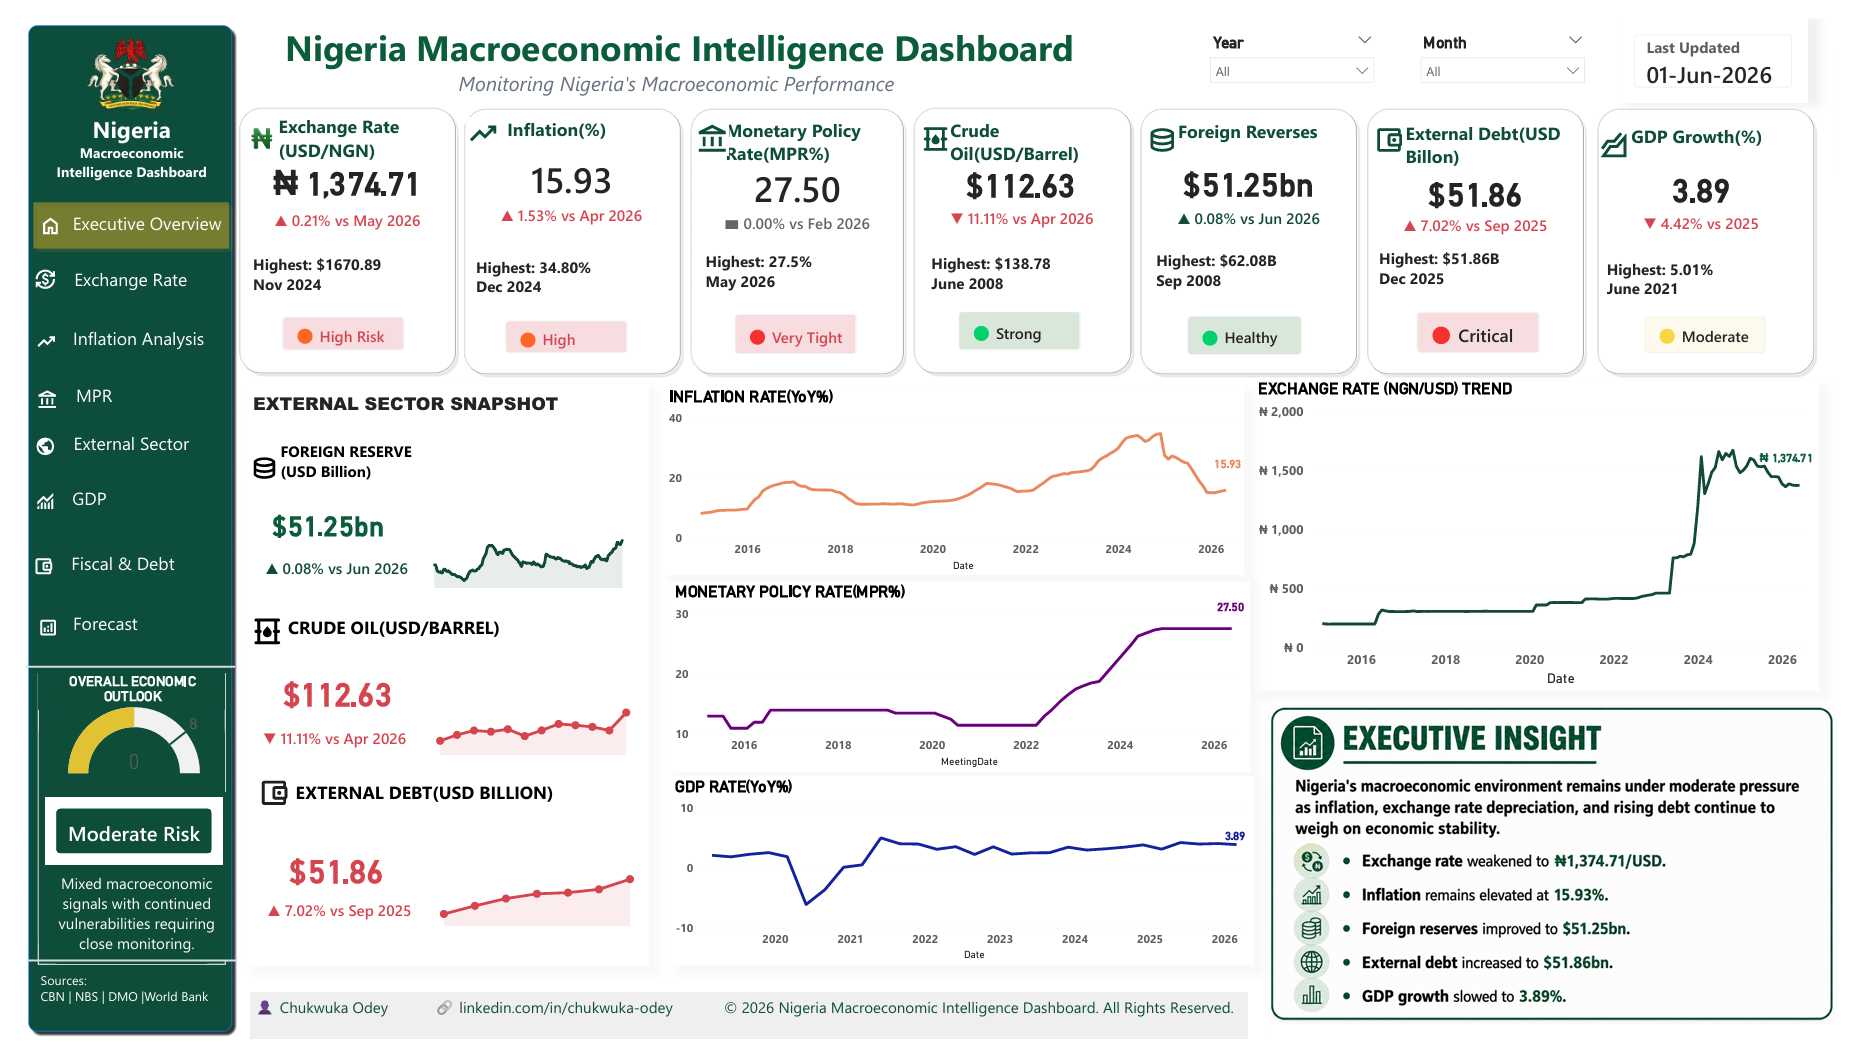

Layout of this report page (visuals, bound fields, positions):
{"tool":"powerbi","page":{"name":"Executive Overview","canvas":[1920,1080],"ordinal":0},"visuals":[{"type":"shape","title":"Sidebar Background","box":[0,0,229.8,1080.4],"z":0},{"type":"shape","box":[225.4,88.9,240,292],"z":0,"group":"g9"},{"type":"shape","box":[939.1,88.9,240.8,292],"z":0,"group":"g11"},{"type":"shape","box":[463.3,89.6,240,292.2],"z":0,"group":"g10"},{"type":"shape","box":[703.3,89.6,236.4,292],"z":0,"group":"g20"},{"type":"shape","box":[1179.1,89.6,240,292],"z":0,"group":"g14"},{"type":"shape","box":[1418.9,89.9,240,292],"z":0,"group":"g12"},{"type":"shape","box":[1663.3,90.1,240.5,292],"z":0,"group":"g13"},{"type":"actionButton","box":[6.1,187.8,220,62.3],"z":0,"group":"g8"},{"type":"image","box":[14.4,265.6,22,22],"z":0,"group":"g7"},{"type":"image","box":[14.9,327.3,21.9,29.7],"z":0,"group":"g6"},{"type":"textbox","title":"Executive Overview","box":[16,381.9,205.1,50.6],"z":0,"group":"g4"},{"type":"lineChart","title":"EXCHANGE RATE (NGN/USD) TREND","fields":{"Y":["Measures (2).Latest Exchange Rate"],"Category":["Exchange_Rate.Date"]},"box":[1304.3,381.9,599,329.7],"z":0,"group":"g15"},{"type":"textbox","box":[240,388.2,423.7,615.7],"z":0,"group":"g16"},{"type":"lineChart","title":"INFLATION RATE(YoY%)","fields":{"Y":["Measures (2).Latest Inflation"],"Category":["Verified Inflation.Date"]},"box":[680.3,390.3,613.6,200],"z":0,"group":"g17"},{"type":"textbox","title":"Executive Overview","box":[0.9,432,207.1,50.6],"z":0,"group":"g3"},{"type":"textbox","title":"Executive Overview","box":[0.9,490.5,211.2,56.8],"z":0,"group":"g5"},{"type":"textbox","title":"Executive Overview","box":[0.4,559.5,207.1,50.6],"z":0,"group":"g1"},{"type":"lineChart","title":"MONETARY POLICY RATE(MPR%)","fields":{"Y":["Measures (2).Latest MPR"],"Category":["MPR.MeetingDate"]},"box":[686.6,596.9,613,201.1],"z":0,"group":"g18"},{"type":"image","box":[17.5,629.8,21.7,29.7],"z":0,"group":"g2"},{"type":"shape","title":"OVERALL ECONOMIC OUTLOOK","box":[16.7,692.9,199.5,308.9],"z":0,"group":"g21"},{"type":"shape","box":[1319,717.9,601,363.1],"z":0,"group":"g22"},{"type":"lineChart","title":"GDP RATE(YoY%)","fields":{"Y":["Measures (2).Latest GDP Growth"],"Category":["GDP Growth.Date"]},"box":[686.6,803.5,617.7,200],"z":0,"group":"g19"},{"type":"group","id":"g1","title":"Nav Fiscal & Debt Analysis","box":[0.4,549.1,220,62],"z":500},{"type":"textbox","title":"Executive Overview","box":[19.6,198.5,206.3,51.9],"z":1000,"group":"g8"},{"type":"textbox","title":"Exchange","box":[14.4,258.1,206.2,37.5],"z":1000,"group":"g7"},{"type":"cardVisual","fields":{"Data":["Measures (2).Crude Oil Status"]},"box":[975.3,293.3,162.8,74.4],"z":1000,"group":"g11"},{"type":"cardVisual","fields":{"Data":["Measures (2).External Debt Status"]},"box":[1460.3,293.5,163.7,77.3],"z":1000,"group":"g12"},{"type":"cardVisual","fields":{"Data":["Measures (2).GDP Growth Status"]},"box":[1700.9,295.2,162.8,75.7],"z":1000,"group":"g13"},{"type":"cardVisual","fields":{"Data":["Measures (2).MPR Status"]},"box":[738.1,295.9,162.8,75.8],"z":1000,"group":"g20"},{"type":"cardVisual","fields":{"Data":["Measures (2).Foreign Reserve Status"]},"box":[1217.1,298,155.5,74.4],"z":1000,"group":"g14"},{"type":"cardVisual","fields":{"Data":["Measures (2).Exchange Rate Status"]},"box":[259.3,298.6,162.8,69.8],"z":1000,"group":"g9"},{"type":"cardVisual","fields":{"Data":["Measures (2).Headline Inflation Status"]},"box":[495,302.3,163.4,68],"z":1000,"group":"g10"},{"type":"textbox","title":"Executive Overview","box":[14.9,321.8,205.1,50.6],"z":1000,"group":"g6"},{"type":"image","box":[16,389.5,21.9,29.7],"z":1000,"group":"g4"},{"type":"image","box":[13.8,437.5,21.8,29.3],"z":1000,"group":"g3"},{"type":"card","title":"Card 1","fields":{"Values":["Measures (2).Latest Exchange Rate"]},"box":[1834.8,445.8,67.5,42.1],"z":1000,"group":"g15"},{"type":"card","title":"Card 1","fields":{"Values":["Measures (2).Latest Inflation"]},"box":[1243.8,454.4,66.8,38.8],"z":1000,"group":"g17"},{"type":"shape","box":[252,481.9,399.2,170.6],"z":1000,"group":"g16"},{"type":"actionButton","box":[10.9,489.3,209,59.4],"z":1000,"group":"g5"},{"type":"image","box":[12.5,565.1,21.8,29.3],"z":1000,"group":"g1"},{"type":"card","title":"Card 1","fields":{"Values":["Measures (2).Latest MPR"]},"box":[1243.8,604.7,71,39.2],"z":1000,"group":"g18"},{"type":"group","id":"g2","title":"Nav Forecasting & Outlook","box":[3.1,614.3,220,62],"z":1000},{"type":"textbox","title":"Executive Overview","box":[3.1,622.2,214.6,51],"z":1000,"group":"g2"},{"type":"image","box":[1319,713.7,601,363.1],"z":1000,"group":"g22"},{"type":"card","title":"Card 1","fields":{"Values":["Measures (2).Latest GDP Growth"]},"box":[1250.1,848.2,68.9,38.8],"z":1000,"group":"g19"},{"type":"textbox","box":[23.6,899.8,196.2,98.1],"z":1000,"group":"g21"},{"type":"card","title":"Card 2","fields":{"Values":["Measures (2).Inflation Change Display"]},"box":[480,193.9,204.5,31.3],"z":2000,"group":"g10"},{"type":"card","title":"Card 2","fields":{"Values":["Measures (2).Crude Oil Change Display"]},"box":[957.9,195.3,202.4,35.5],"z":2000,"group":"g11"},{"type":"card","title":"Card 2","fields":{"Values":["Measures (2).Foreign Reserve Change Display"]},"box":[1197.9,196,202.4,35.5],"z":2000,"group":"g14"},{"type":"card","title":"Card 2","fields":{"Values":["Measures (2).Exchange Rate Change Display"]},"box":[244.2,197.4,202.4,35.5],"z":2000,"group":"g9"},{"type":"card","title":"Card 2","fields":{"Values":["Measures (2).MPR Change Display"]},"box":[722.1,200.2,198.3,35.5],"z":2000,"group":"g20"},{"type":"card","title":"Card 2","fields":{"Values":["Measures (2).GDP Growth Change Display"]},"box":[1677.9,200.7,200.3,35.5],"z":2000,"group":"g13"},{"type":"card","title":"Card 2","fields":{"Values":["Measures (2).External Debt Change Display"]},"box":[1437.7,202.6,202.4,35.5],"z":2000,"group":"g12"},{"type":"image","box":[19.6,204,22.5,31.1],"z":2000,"group":"g8"},{"type":"actionButton","box":[1.3,250.4,220,62],"z":2000,"group":"g7"},{"type":"actionButton","box":[1.1,311.4,218.8,60.8],"z":2000,"group":"g6"},{"type":"actionButton","box":[4.9,371.5,218.8,60.8],"z":2000,"group":"g4"},{"type":"actionButton","box":[1,421.6,220.9,60.8],"z":2000,"group":"g3"},{"type":"textbox","box":[268.6,441.9,189.9,72.4],"z":2000,"group":"g16"},{"type":"image","box":[13.4,497.6,23,27.1],"z":2000,"group":"g5"},{"type":"actionButton","box":[0.5,549.1,220.9,60.8],"z":2000,"group":"g1"},{"type":"actionButton","box":[6,614.3,216.7,60.8],"z":2000,"group":"g2"},{"type":"cardVisual","fields":{"Data":["Measures (2).Economic Outlook Status"]},"box":[19.4,819.7,198.3,81.5],"z":2000,"group":"g21"},{"type":"group","id":"g3","title":"Nav External Sector","box":[0.9,421.6,220,62],"z":2500},{"type":"group","id":"g4","title":"Nav Monetary Policy (MPR)","box":[4.9,371.5,220,62],"z":2750},{"type":"card","title":"Card 1","fields":{"Values":["Measures (2).Latest Inflation"]},"box":[477.9,143.9,208.7,52.2],"z":3000,"group":"g10"},{"type":"card","title":"Card 1","fields":{"Values":["Measures (2).Latest Foreign Reserve"]},"box":[1195.8,143.9,206.6,58.4],"z":3000,"group":"g14"},{"type":"card","title":"Card 1","fields":{"Values":["Measures (2).Latest Exchange Rate"]},"box":[240.6,145.4,208.7,52.2],"z":3000,"group":"g9"},{"type":"card","title":"Card 1","fields":{"Values":["Measures (2).Latest Crude Oil Price"]},"box":[954.8,149.6,206.6,48],"z":3000,"group":"g11"},{"type":"card","title":"Card 1","fields":{"Values":["Measures (2).Latest MPR"]},"box":[720,150.1,202.4,58.4],"z":3000,"group":"g20"},{"type":"card","title":"Card 1","fields":{"Values":["Measures (2).Latest GDP Growth"]},"box":[1675.8,150.6,204.5,58.4],"z":3000,"group":"g13"},{"type":"card","title":"Card 1","fields":{"Values":["Measures (2).Latest External Debt"]},"box":[1435.6,156.3,206.6,54.3],"z":3000,"group":"g12"},{"type":"group","id":"g5","title":"Nav Economic Growth","box":[0.9,489.3,219,59.4],"z":3000},{"type":"shape","box":[252,657.5,399.2,170.6],"z":3000,"group":"g16"},{"type":"gauge","fields":{"Y":["Measures (2).Economic Outlook Score"]},"box":[29,718.8,179.3,85],"z":3000,"group":"g21"},{"type":"textbox","box":[509.3,98.3,154.4,50.1],"z":4000,"group":"g10"},{"type":"textbox","box":[740.8,99.4,181,61.5],"z":4000,"group":"g20"},{"type":"textbox","box":[977.8,99.5,160.7,60.5],"z":4000,"group":"g11"},{"type":"textbox","box":[1219.5,100.2,160.7,45.9],"z":4000,"group":"g14"},{"type":"textbox","box":[1699,107,158.6,45.9],"z":4000,"group":"g13"},{"type":"textbox","box":[1432.1,237.7,206.6,68.9],"z":4000,"group":"g12"},{"type":"textbox","box":[240.6,243.5,206.6,60.5],"z":4000,"group":"g9"},{"type":"image","box":[241.9,452.2,29.7,46.8],"z":4000,"group":"g16"},{"type":"textbox","box":[267.7,95.4,158.6,61.4],"z":5000,"group":"g9"},{"type":"textbox","box":[1459.4,102.7,180.4,70.3],"z":5000,"group":"g12"},{"type":"image","box":[714.7,109.3,33.3,36.1],"z":5000,"group":"g20"},{"type":"image","box":[1669.4,116,33.8,36.1],"z":5000,"group":"g13"},{"type":"textbox","box":[1195.7,240,204.5,66.8],"z":5000,"group":"g14"},{"type":"textbox","box":[957.9,243.3,189.9,66.8],"z":5000,"group":"g11"},{"type":"textbox","box":[475.9,246.5,204.5,66.8],"z":5000,"group":"g10"},{"type":"shape","box":[251.4,833.5,399.5,169.8],"z":5000,"group":"g16"},{"type":"image","box":[471.6,104.2,33.4,33.4],"z":6000,"group":"g10"},{"type":"image","box":[237,108.6,33.8,36.1],"z":6000,"group":"g9"},{"type":"image","box":[950.7,108.6,33.9,36.1],"z":6000,"group":"g11"},{"type":"image","box":[1190.7,109.3,33.8,36.1],"z":6000,"group":"g14"},{"type":"image","box":[1430.5,109.6,33.8,36.1],"z":6000,"group":"g12"},{"type":"textbox","box":[719,240.2,189.9,66.8],"z":6000,"group":"g20"},{"type":"textbox","box":[1673.7,248.7,204.5,66.8],"z":6000,"group":"g13"},{"type":"group","id":"g6","title":"Nav Inflation Analysis","box":[1.1,311.4,220,62],"z":6000},{"type":"lineChart","title":"EXCHANGE RATE (NGN/USD) TREND","fields":{"Y":["Measures (2).Latest Foreign Reserve"],"Category":["Date.Date.Variation.Date Hierarchy.Year","Date.Date.Variation.Date Hierarchy.Quarter","Date.Date.Variation.Date Hierarchy.Month","Date.Date.Variation.Date Hierarchy.Day"]},"box":[421.6,525.4,229.6,82],"z":6000,"group":"g16"},{"type":"group","id":"g7","title":"Nav - Exchange","box":[1.3,250.4,220,62],"z":7000},{"type":"card","title":"Card 1","fields":{"Values":["Measures (2).Latest Foreign Reserve"]},"box":[257.7,503.8,133.8,63.4],"z":7000,"group":"g16"},{"type":"group","id":"g8","title":"Nav - Executive Overview","box":[6.1,187.8,220,62.6],"z":8000},{"type":"textbox","box":[276.9,627.7,237.9,63.5],"z":8000,"group":"g16"},{"type":"textbox","title":"Title bar","box":[229.6,0,932.9,93.9],"z":9000},{"type":"card","title":"Card 2","fields":{"Values":["Measures (2).Foreign Reserve Change Display"]},"box":[249.8,560.1,167,49.6],"z":9000,"group":"g16"},{"type":"image","title":"Coat of Arm","box":[6,10.7,219,122.6],"z":10000},{"type":"lineChart","title":"EXCHANGE RATE (NGN/USD) TREND","fields":{"Category":["Date.Date.Variation.Date Hierarchy.Year","Date.Date.Variation.Date Hierarchy.Quarter","Date.Date.Variation.Date Hierarchy.Month","Date.Date.Variation.Date Hierarchy.Day"],"Y":["Measures (2).Latest Crude Oil Price"]},"box":[427.8,706.5,227.5,80.1],"z":10000,"group":"g16"},{"type":"textbox","box":[14.9,94.6,202.7,93.2],"z":11000},{"type":"card","title":"Card 1","fields":{"Values":["Measures (2).Latest Crude Oil Price"]},"box":[267.1,683.6,133.6,61],"z":11000,"group":"g16"},{"type":"shape","title":"Line 1","box":[5.4,680.4,220.8,12.7],"z":12000},{"type":"textbox","box":[285.3,801.6,338.1,60.7],"z":12000,"group":"g16"},{"type":"group","id":"g9","title":"Exchange Rate KPI","box":[225.4,88.9,240,292],"z":13000},{"type":"card","title":"Card 2","fields":{"Values":["Measures (2).Crude Oil Change Display"]},"box":[250.4,744.6,162.8,40],"z":13000,"group":"g16"},{"type":"group","id":"g10","title":"Inflation KPI","box":[463.3,89.6,240,292.2],"z":14000},{"type":"card","title":"Card 1","fields":{"Values":["Measures (2).Latest External Debt"]},"box":[267.1,870.4,131.5,61],"z":14000,"group":"g16"},{"type":"group","id":"g11","title":"Crude KPI","box":[939.1,88.9,240.8,292],"z":15000},{"type":"card","title":"Card 2","fields":{"Values":["Measures (2).External Debt Change Display"]},"box":[254,927.1,164.9,38.1],"z":15000,"group":"g16"},{"type":"group","id":"g12","title":"External Dept KPI","box":[1418.9,89.9,240,292.2],"z":16000},{"type":"lineChart","title":"EXCHANGE RATE (NGN/USD) TREND","fields":{"Category":["Date.Date.Variation.Date Hierarchy.Year","Date.Date.Variation.Date Hierarchy.Quarter","Date.Date.Variation.Date Hierarchy.Month","Date.Date.Variation.Date Hierarchy.Day"],"Y":["Measures (2).Latest External Debt"]},"box":[432,885.7,227.5,80.1],"z":16000,"group":"g16"},{"type":"group","id":"g13","title":"GDP KPI","box":[1663.3,90.1,240,292.2],"z":17000},{"type":"image","box":[241.9,630.5,36.5,36.5],"z":17000,"group":"g16"},{"type":"group","id":"g14","title":"Crude KPI","box":[1179.1,89.6,240,292.2],"z":18000},{"type":"image","box":[249.6,801.7,34.6,36.5],"z":18000,"group":"g16"},{"type":"group","id":"g15","title":"Group 1","box":[1304.3,381.9,599,329.7],"z":19000},{"type":"group","id":"g16","title":"Group 2","box":[240,388.2,423.7,615.7],"z":20000},{"type":"group","id":"g17","title":"Group 3","box":[680.3,390.3,630.3,200],"z":21000},{"type":"group","id":"g18","title":"Group 4","box":[686.6,596.9,628.2,200.3],"z":22000},{"type":"group","id":"g19","title":"Group 5","box":[686.6,803.5,632.3,200.3],"z":23000},{"type":"group","id":"g20","title":"Inflation KPI","box":[703.3,89.6,236.4,292],"z":24000},{"type":"cardVisual","title":"Last Updated","fields":{"Data":["Measures (2).Last Updated"]},"box":[1690.4,0,200.3,89.7],"z":25000},{"type":"slicer","fields":{"Values":["Date.Year"]},"box":[1248,10.4,194.1,75.1],"z":26000},{"type":"slicer","fields":{"Values":["Date.Month"]},"box":[1471.3,10.4,194.1,75.1],"z":27000},{"type":"group","id":"g21","title":"Group 6","box":[16.7,692.9,203.1,308.9],"z":28000},{"type":"shape","title":"Line 1","box":[6.3,991.3,221.2,12.5],"z":29000},{"type":"textbox","box":[14.6,1003.8,204.5,52.2],"z":30000},{"type":"textbox","box":[242.1,1031,1056,50.1],"z":31000},{"type":"group","id":"g22","title":"Group 7","box":[1319,713.7,601,367.3],"z":32000}]}

Visuals, with their boxes in screenshot pixels (x1, y1, x2, y2), scaled from the page's 1920x1080 canvas onto the 1858x1059 screenshot:
"Sidebar Background" shape: 0:0:222:1058
shape: 218:87:450:373
shape: 909:87:1142:373
shape: 448:88:681:374
shape: 681:88:909:374
shape: 1141:88:1373:374
shape: 1373:88:1605:374
shape: 1610:88:1842:375
actionButton: 6:184:219:245
image: 14:260:35:282
image: 14:321:36:350
"Executive Overview" textbox: 15:374:214:424
"EXCHANGE RATE (NGN/USD) TREND" lineChart: 1262:374:1842:698
textbox: 232:381:642:984
"INFLATION RATE(YoY%)" lineChart: 658:383:1252:579
"Executive Overview" textbox: 1:424:201:473
"Executive Overview" textbox: 1:481:205:537
"Executive Overview" textbox: 0:549:201:598
"MONETARY POLICY RATE(MPR%)" lineChart: 664:585:1258:782
image: 17:618:38:647
"OVERALL ECONOMIC OUTLOOK" shape: 16:679:209:982
shape: 1276:704:1857:1058
"GDP RATE(YoY%)" lineChart: 664:788:1262:984
"Nav Fiscal & Debt Analysis" group: 0:538:213:599
"Executive Overview" textbox: 19:195:219:246
"Exchange" textbox: 14:253:213:290
cardVisual - Measures (2).Crude Oil Status: 944:288:1101:361
cardVisual - Measures (2).External Debt Status: 1413:288:1572:364
cardVisual - Measures (2).GDP Growth Status: 1646:289:1804:364
cardVisual - Measures (2).MPR Status: 714:290:872:364
cardVisual - Measures (2).Foreign Reserve Status: 1178:292:1328:365
cardVisual - Measures (2).Exchange Rate Status: 251:293:408:361
cardVisual - Measures (2).Headline Inflation Status: 479:296:637:363
"Executive Overview" textbox: 14:316:213:365
image: 15:382:37:411
image: 13:429:34:458
"Card 1" card: 1776:437:1841:478
"Card 1" card: 1204:446:1268:484
shape: 244:473:630:640
actionButton: 11:480:213:538
image: 12:554:33:583
"Card 1" card: 1204:593:1272:631
"Nav Forecasting & Outlook" group: 3:602:216:663
"Executive Overview" textbox: 3:610:211:660
image: 1276:700:1857:1056
"Card 1" card: 1210:832:1276:870
textbox: 23:882:213:978
"Card 2" card: 464:190:662:221
"Card 2" card: 927:192:1123:226
"Card 2" card: 1159:192:1355:227
"Card 2" card: 236:194:432:228
"Card 2" card: 699:196:891:231
"Card 2" card: 1624:197:1818:232
"Card 2" card: 1391:199:1587:233
image: 19:200:41:231
actionButton: 1:246:214:306
actionButton: 1:305:213:365
actionButton: 5:364:216:424
actionButton: 1:413:215:473
textbox: 260:433:444:504
image: 13:488:35:514
actionButton: 0:538:214:598
actionButton: 6:602:216:662
cardVisual - Measures (2).Economic Outlook Status: 19:804:211:884
"Nav External Sector" group: 1:413:214:474
"Nav Monetary Policy (MPR)" group: 5:364:218:425
"Card 1" card: 462:141:664:192
"Card 1" card: 1157:141:1357:198
"Card 1" card: 233:143:435:194
"Card 1" card: 924:147:1124:194
"Card 1" card: 697:147:893:204
"Card 1" card: 1622:148:1820:205
"Card 1" card: 1389:153:1589:207
"Nav Economic Growth" group: 1:480:213:538
shape: 244:645:630:812
gauge - Measures (2).Economic Outlook Score: 28:705:202:788
textbox: 493:96:642:146
textbox: 717:97:892:158
textbox: 946:98:1102:157
textbox: 1180:98:1336:143
textbox: 1644:105:1798:150
textbox: 1386:233:1586:301
textbox: 233:239:433:298
image: 234:443:263:489
textbox: 259:94:413:154
textbox: 1412:101:1587:170
image: 692:107:724:143
image: 1615:114:1648:149
textbox: 1157:235:1355:301
textbox: 927:239:1111:304
textbox: 461:242:658:307
shape: 243:817:630:984
image: 456:102:489:135
image: 229:106:262:142
image: 920:106:953:142
image: 1152:107:1185:143
image: 1384:107:1417:143
textbox: 696:236:880:301
textbox: 1620:244:1818:309
"Nav Inflation Analysis" group: 1:305:214:366
"EXCHANGE RATE (NGN/USD) TREND" lineChart: 408:515:630:596
"Nav - Exchange" group: 1:246:214:306
"Card 1" card: 249:494:379:556
"Nav - Executive Overview" group: 6:184:219:246
textbox: 268:615:498:678
"Title bar" textbox: 222:0:1125:92
"Card 2" card: 242:549:403:598
"Coat of Arm" image: 6:10:218:131
"EXCHANGE RATE (NGN/USD) TREND" lineChart: 414:693:634:771
textbox: 14:93:211:184
"Card 1" card: 258:670:388:730
"Line 1" shape: 5:667:219:680
textbox: 276:786:603:846
"Exchange Rate KPI" group: 218:87:450:373
"Card 2" card: 242:730:400:769
"Inflation KPI" group: 448:88:681:374
"Card 1" card: 258:853:386:913
"Crude KPI" group: 909:87:1142:373
"Card 2" card: 246:909:405:946
"External Dept KPI" group: 1373:88:1605:375
"EXCHANGE RATE (NGN/USD) TREND" lineChart: 418:868:638:947
"GDP KPI" group: 1610:88:1842:375
image: 234:618:269:654
"Crude KPI" group: 1141:88:1373:374
image: 242:786:275:822
"Group 1" group: 1262:374:1842:698
"Group 2" group: 232:381:642:984
"Group 3" group: 658:383:1268:579
"Group 4" group: 664:585:1272:782
"Group 5" group: 664:788:1276:984
"Inflation KPI" group: 681:88:909:374
"Last Updated" cardVisual: 1636:0:1830:88
slicer - Date.Year: 1208:10:1396:84
slicer - Date.Month: 1424:10:1612:84
"Group 6" group: 16:679:213:982
"Line 1" shape: 6:972:220:984
textbox: 14:984:212:1035
textbox: 234:1011:1256:1058
"Group 7" group: 1276:700:1857:1058
